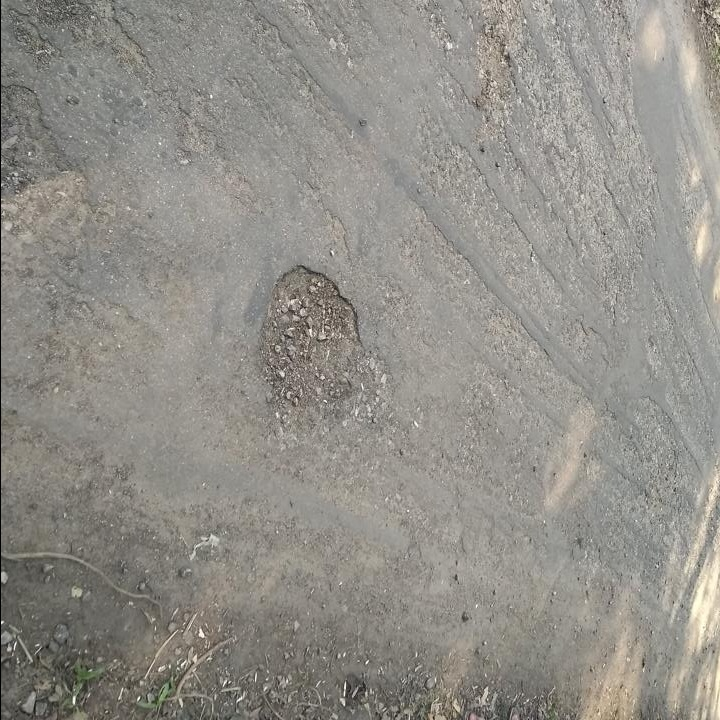pothole: (256, 257, 367, 428), (475, 29, 521, 102)
